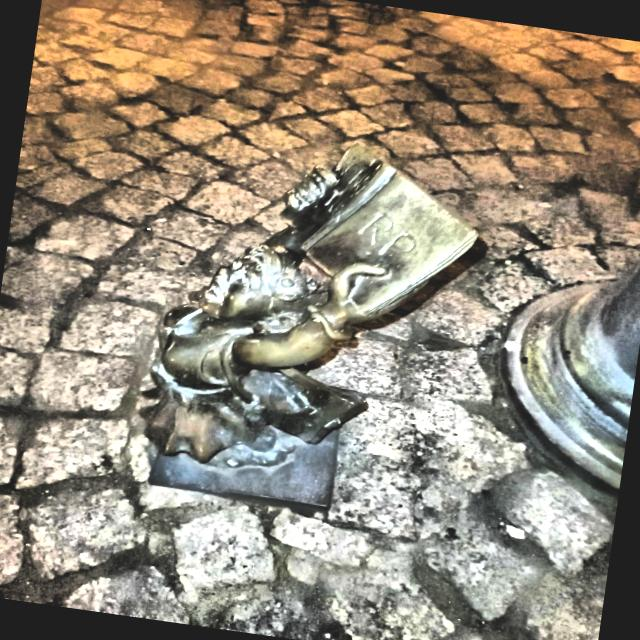Demokracja: (140, 142, 477, 507)
